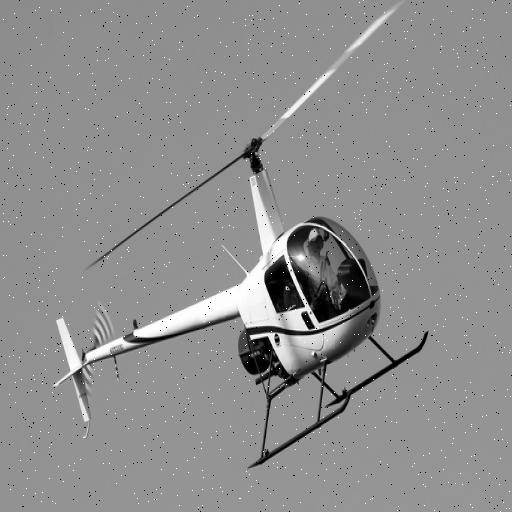helicopter: (53, 1, 430, 472)
